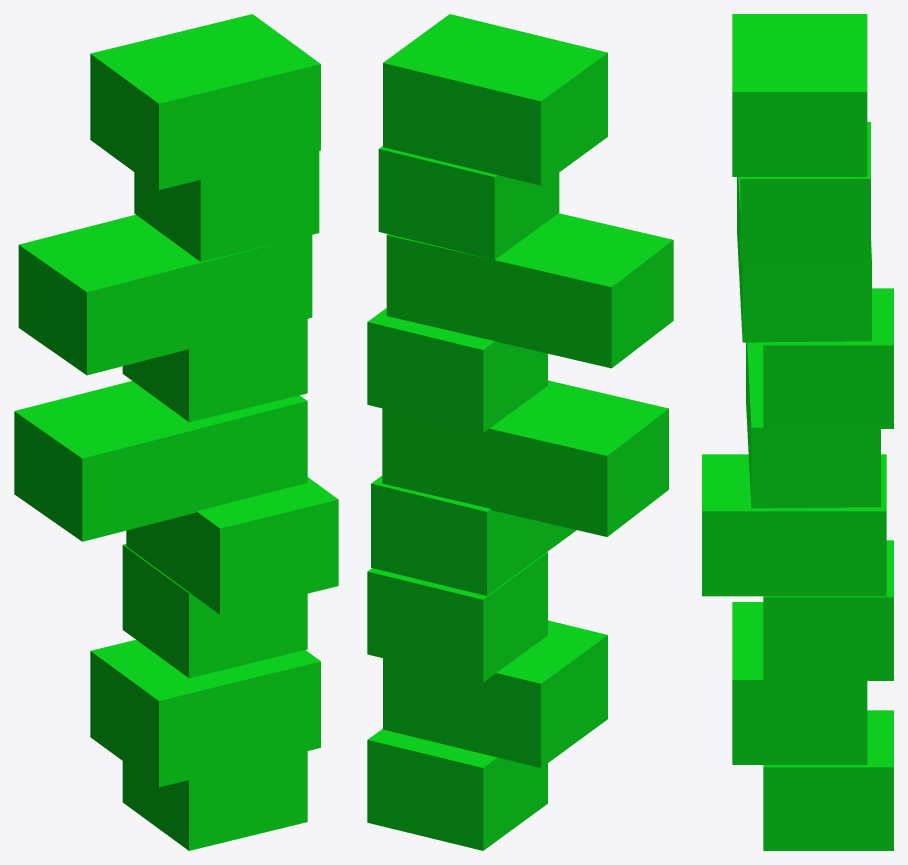
The model's file is Brick_Grp_02.fbx.
The picture shows the model from 3 angles, left to right: view 1: azimuth 30°, elevation 25°; view 2: azimuth 150°, elevation 25°; view 3: azimuth 270°, elevation 25°; orthographic projection. The views are drawn at different scales.
Visible parts, largest first — view 1: Brick_Grp_02; view 2: Brick_Grp_02; view 3: Brick_Grp_02.
Part boxes in pixels (x1,y1,x2,y2): Brick_Grp_02: (14,14,338,850); Brick_Grp_02: (367,14,673,850); Brick_Grp_02: (702,14,893,850).
Size of the model in its own units: 337 by 1048 by 240.
